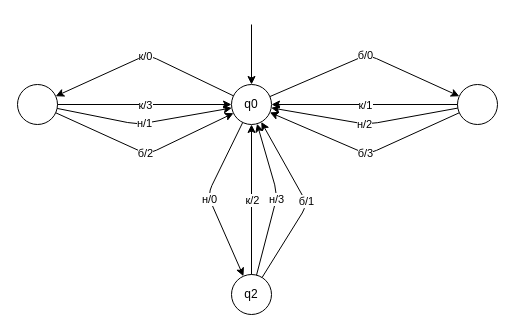
Image size: 515x332. Some labels were removed from this diagram. The shapes that lost their labels are listed below. From the top down, each one's box as (x1, y1, x2, y2) in pixels, then its label:
(16, 84, 58, 124): q1
(456, 84, 498, 124): q3
